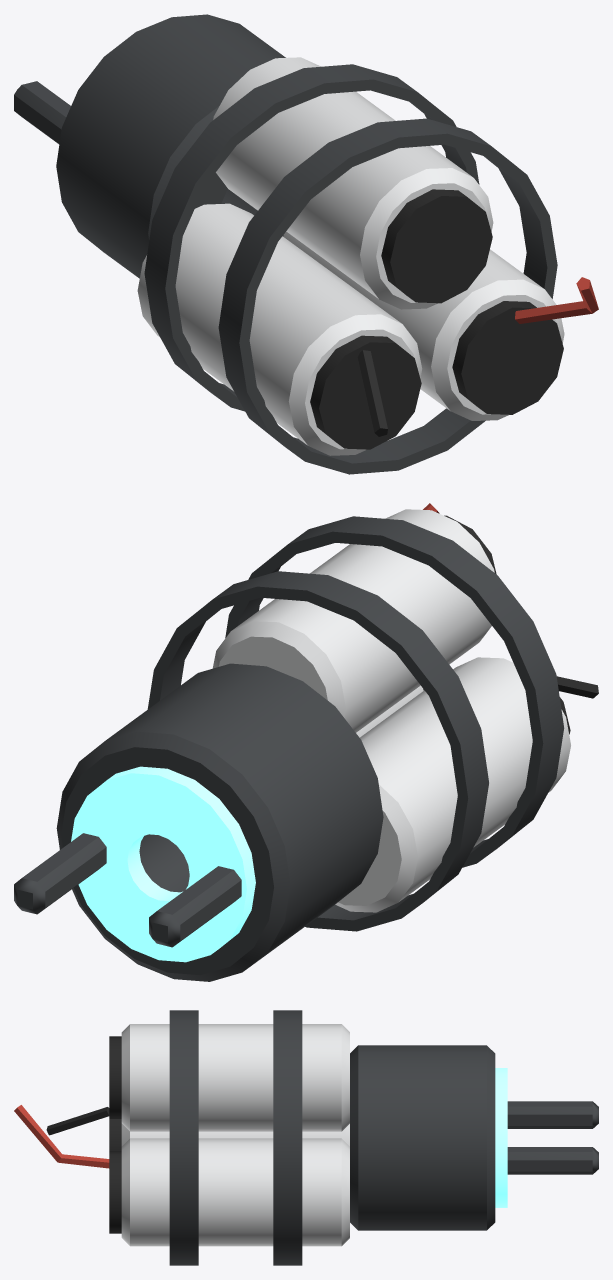
The model's file is crawler_capacitor.glb.
The picture shows the model from 3 angles, top to bottom: view 1: azimuth 30°, elevation 25°; view 2: azimuth 150°, elevation 25°; view 3: azimuth 270°, elevation 25°; orthographic projection. The views are drawn at different scales.
Visible parts, largest first — view 1: body; view 2: body; view 3: body.
Boxes of the visible parts, x1=… form: body: x1=14, y1=14, x2=598, y2=474; body: x1=14, y1=503, x2=598, y2=981; body: x1=14, y1=1010, x2=598, y2=1265.
Bounding box in the file's own units: 0.124 × 0.124 × 0.2819.
